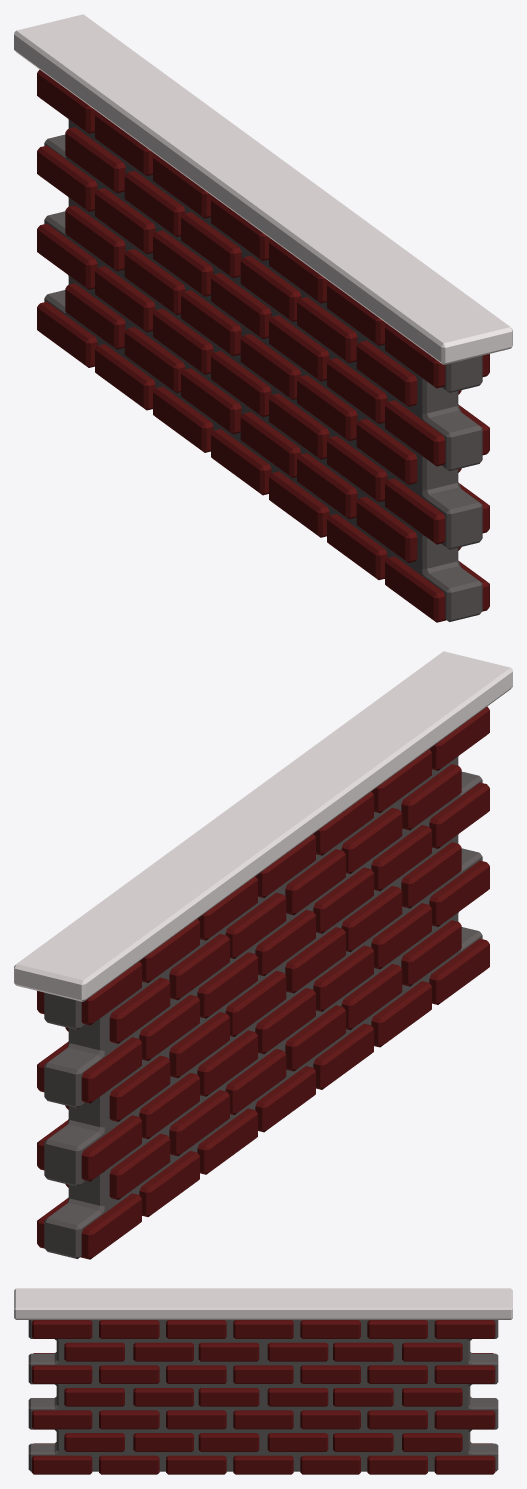
Rendered from Firewall.fbx.
3 renders of one model, top to bottom at view 1: azimuth 30°, elevation 25°; view 2: azimuth 150°, elevation 25°; view 3: azimuth 270°, elevation 25°, orthographic. The views are drawn at different scales.
Visible parts, largest first — view 1: Firewall; view 2: Firewall; view 3: Firewall.
Boxes of the visible parts, x1,y1,x2,y2 form: Firewall: [14, 14, 512, 622]; Firewall: [14, 651, 512, 1259]; Firewall: [14, 1288, 512, 1474].
Bounding box in the file's own units: 125 × 487 × 1301.
